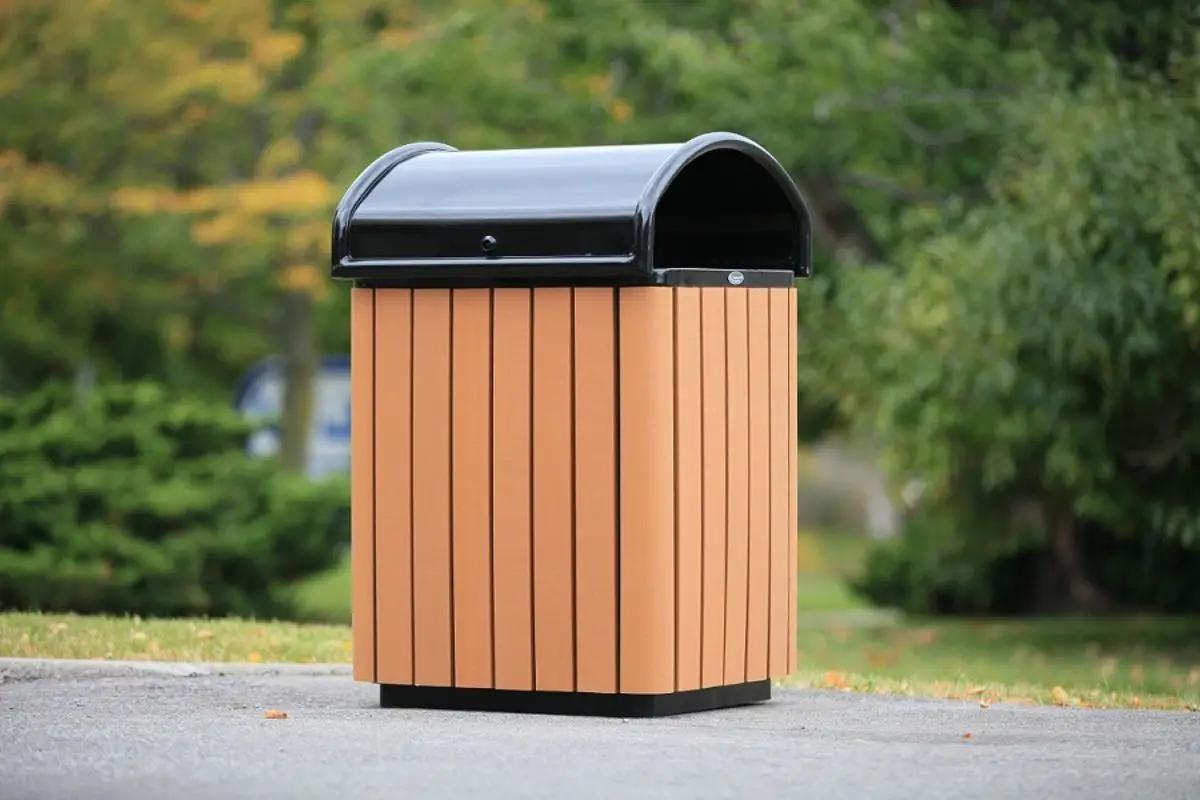trash bin: (323, 128, 819, 736)
